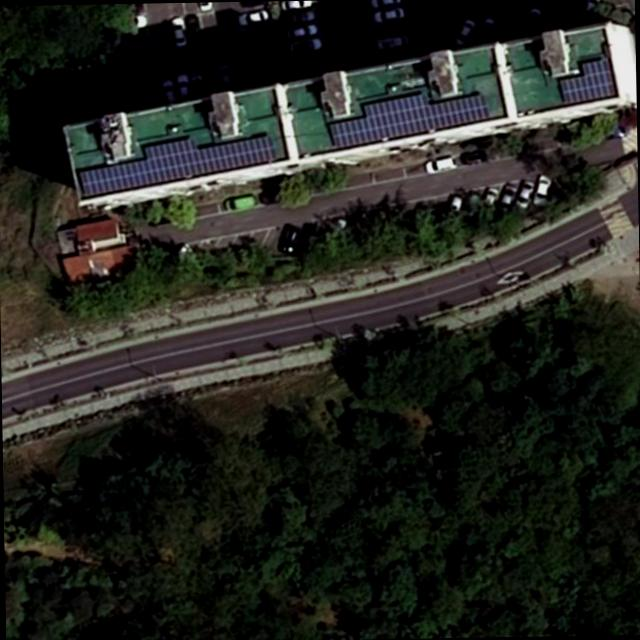solar: (73, 132, 280, 198), (326, 87, 492, 154), (552, 55, 616, 102)
